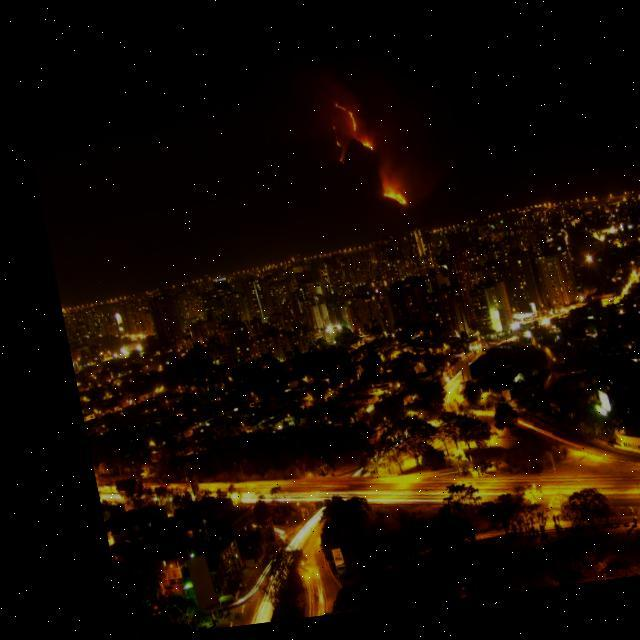Fire: (327, 106, 356, 141), (370, 190, 400, 216), (320, 134, 340, 170), (349, 147, 368, 160)
